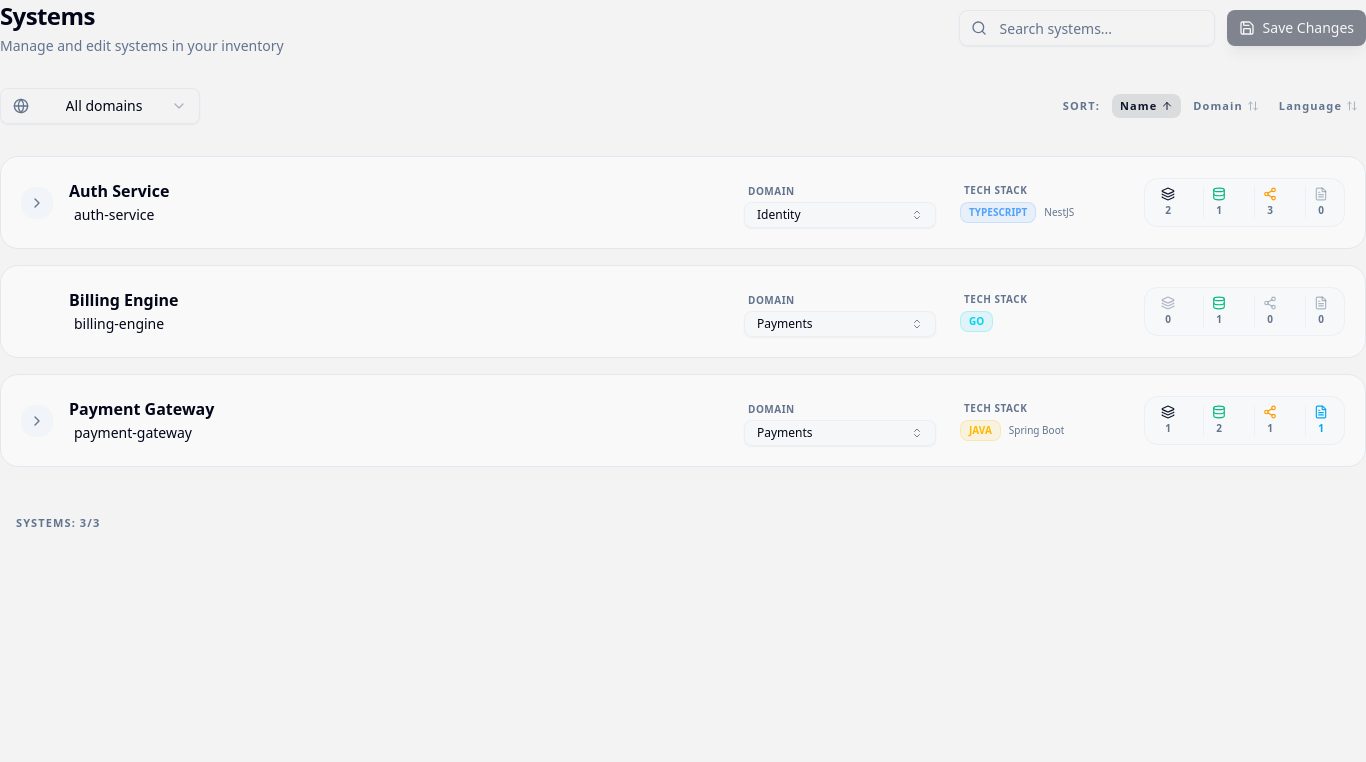
Test case: SystemsTable › expands system row to show services on click
The image size is (1366, 762).
Check: the text "Auth API" is not shown
Check: the text "Auth Worker" is not shown
# Click the system row to expand
Click the text "Auth Service": (37,202) [21,178,1345,228]
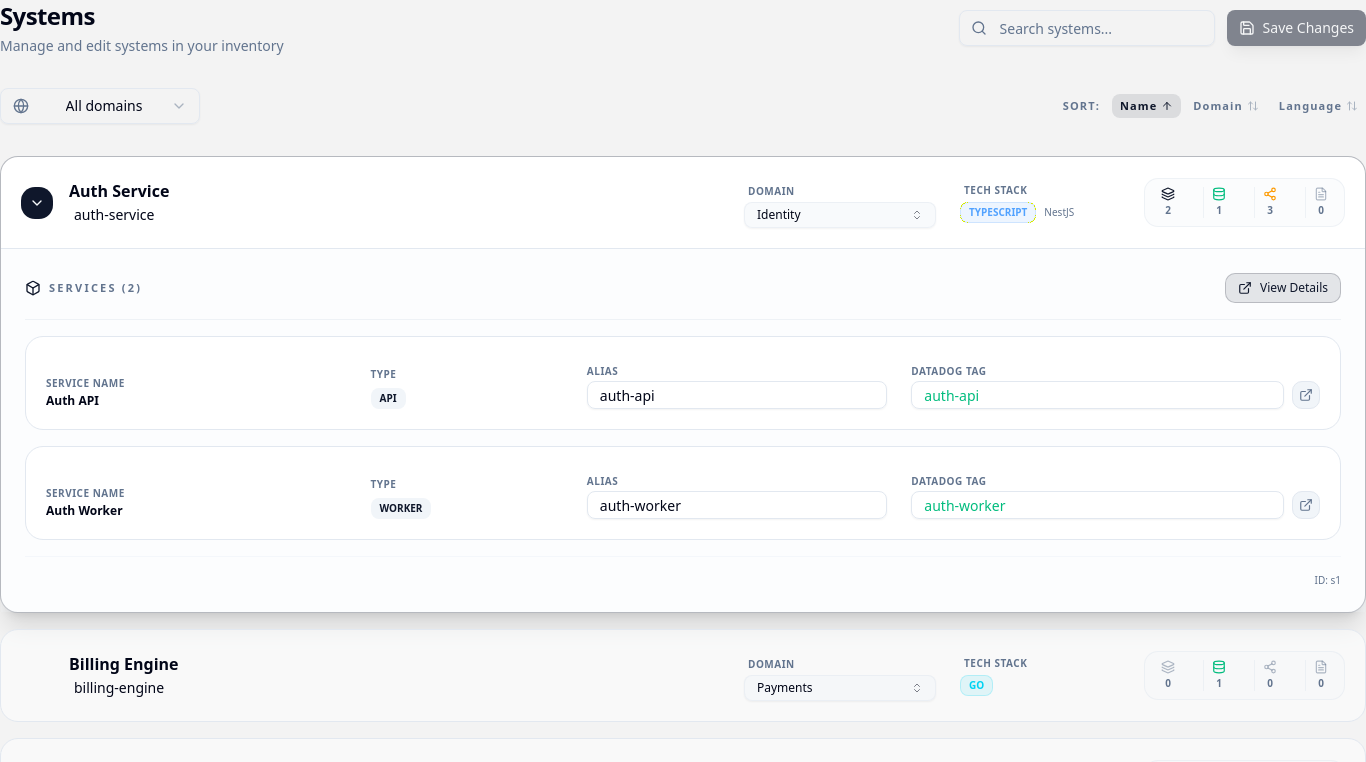
Check: the text "Auth API" is shown, box [46,392,99,409]
Check: the text "Auth Worker" is shown, box [46,502,123,519]
